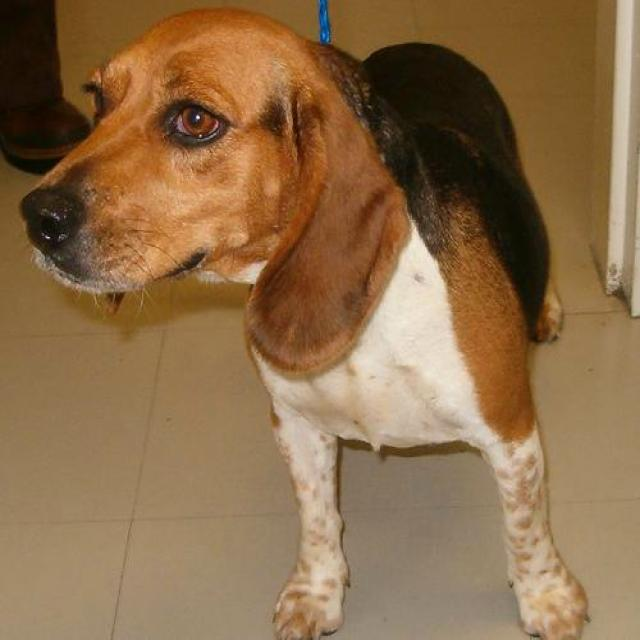beagle: (16, 4, 588, 636)
